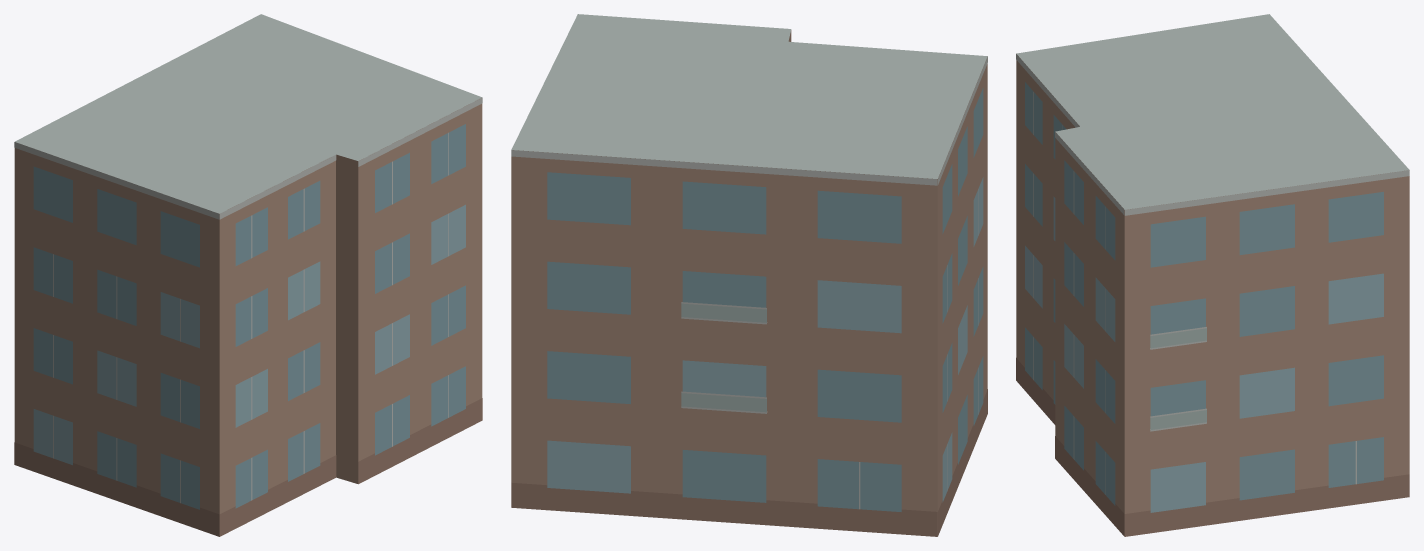
File: survey-upis-32865608.glb
The picture shows the model from 3 angles, left to right: view 1: azimuth 30°, elevation 25°; view 2: azimuth 150°, elevation 25°; view 3: azimuth 270°, elevation 25°; orthographic projection. The views are drawn at different scales.
Parts seen in each view (by area): view 1: survey-upis-32865608.tmp; view 2: survey-upis-32865608.tmp; view 3: survey-upis-32865608.tmp.
Boxes of the visible parts, bbox=[...] form: survey-upis-32865608.tmp: bbox=[14, 14, 482, 536]; survey-upis-32865608.tmp: bbox=[511, 14, 987, 536]; survey-upis-32865608.tmp: bbox=[1016, 14, 1409, 536].
Size of the model in its own units: 17.03 by 13.25 by 14.46.
